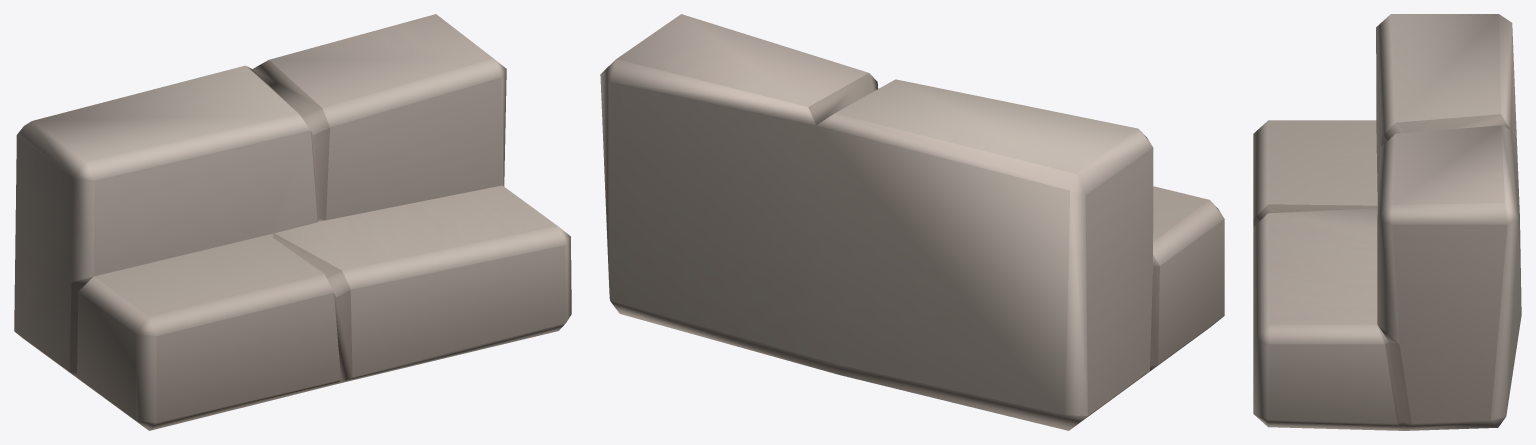
The model's file is elf_stairs_half_1_shade_1.fbx.
The picture shows the model from 3 angles, left to right: view 1: azimuth 30°, elevation 25°; view 2: azimuth 150°, elevation 25°; view 3: azimuth 270°, elevation 25°; orthographic projection. The views are drawn at different scales.
Visible parts, largest first — view 1: elf_stairs_half_1_shade_1; view 2: elf_stairs_half_1_shade_1; view 3: elf_stairs_half_1_shade_1.
Part boxes in pixels (bbox=[...]): elf_stairs_half_1_shade_1: bbox=[14, 14, 571, 430]; elf_stairs_half_1_shade_1: bbox=[600, 14, 1224, 430]; elf_stairs_half_1_shade_1: bbox=[1253, 14, 1521, 430].
Bounding box in the file's own units: 100 × 50.87 × 54.57.
